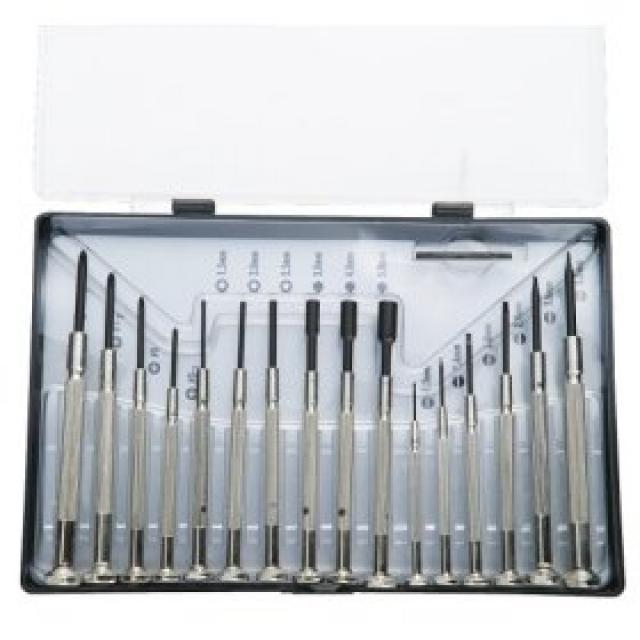Screwdriver: (40, 246, 96, 588), (557, 246, 605, 586), (80, 266, 126, 590), (111, 292, 157, 588), (360, 296, 405, 586), (284, 298, 330, 580), (177, 289, 215, 596), (250, 293, 289, 584), (325, 293, 363, 583), (523, 268, 557, 584), (217, 292, 253, 585), (147, 315, 186, 585), (496, 291, 524, 585), (425, 350, 460, 585), (396, 373, 434, 585), (463, 319, 488, 587)
